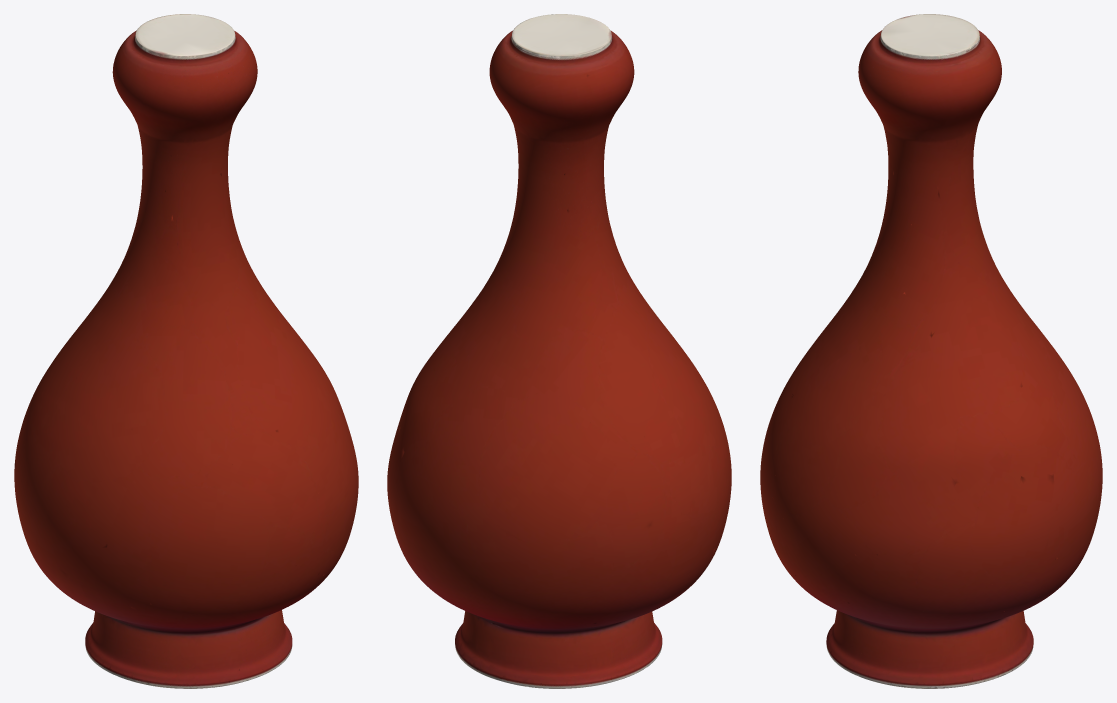
Rendered from suantou.glb.
The picture shows the model from 3 angles, left to right: view 1: azimuth 30°, elevation 25°; view 2: azimuth 150°, elevation 25°; view 3: azimuth 270°, elevation 25°; orthographic projection.
Visible parts, largest first — view 1: node_0; view 2: node_0; view 3: node_0.
Boxes of the visible parts, bbox=[...] form: node_0: bbox=[14, 14, 358, 688]; node_0: bbox=[387, 14, 731, 688]; node_0: bbox=[760, 14, 1102, 688].
Bounding box in the file's own units: 0.5844 × 1.16 × 0.5853.
1 material, 1 textured.
